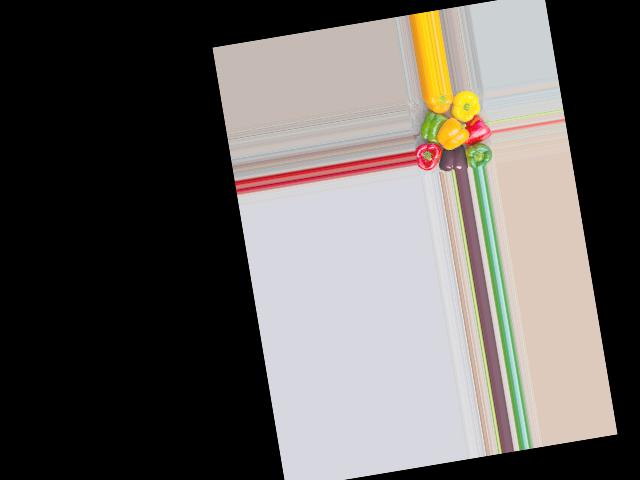bell_pepper: (415, 92, 456, 123)
